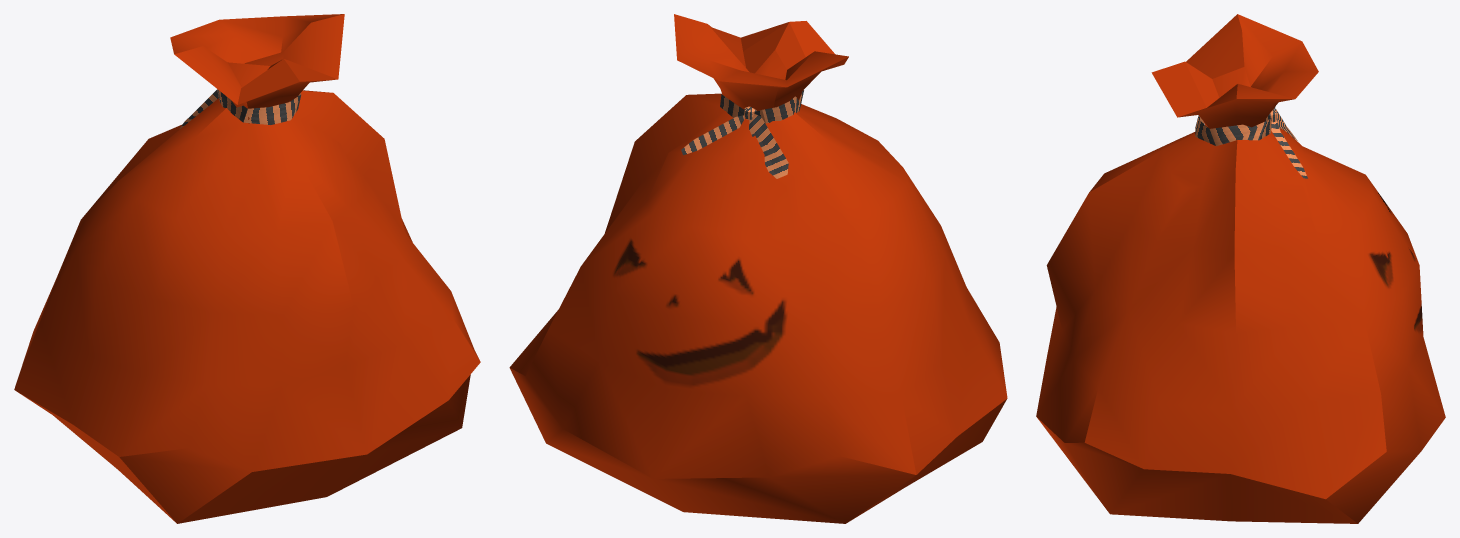
Rendered from CandyBag.fbx.
The picture shows the model from 3 angles, left to right: view 1: azimuth 30°, elevation 25°; view 2: azimuth 150°, elevation 25°; view 3: azimuth 270°, elevation 25°; orthographic projection. The views are drawn at different scales.
Parts seen in each view (by area): view 1: CandyBag; view 2: CandyBag; view 3: CandyBag.
Boxes of the visible parts, <box> form: CandyBag: <box>14,14,480,523</box>; CandyBag: <box>509,14,1007,523</box>; CandyBag: <box>1036,14,1445,523</box>.
Size of the model in its own units: 248 by 249 by 218.
3 materials, 3 textured.
